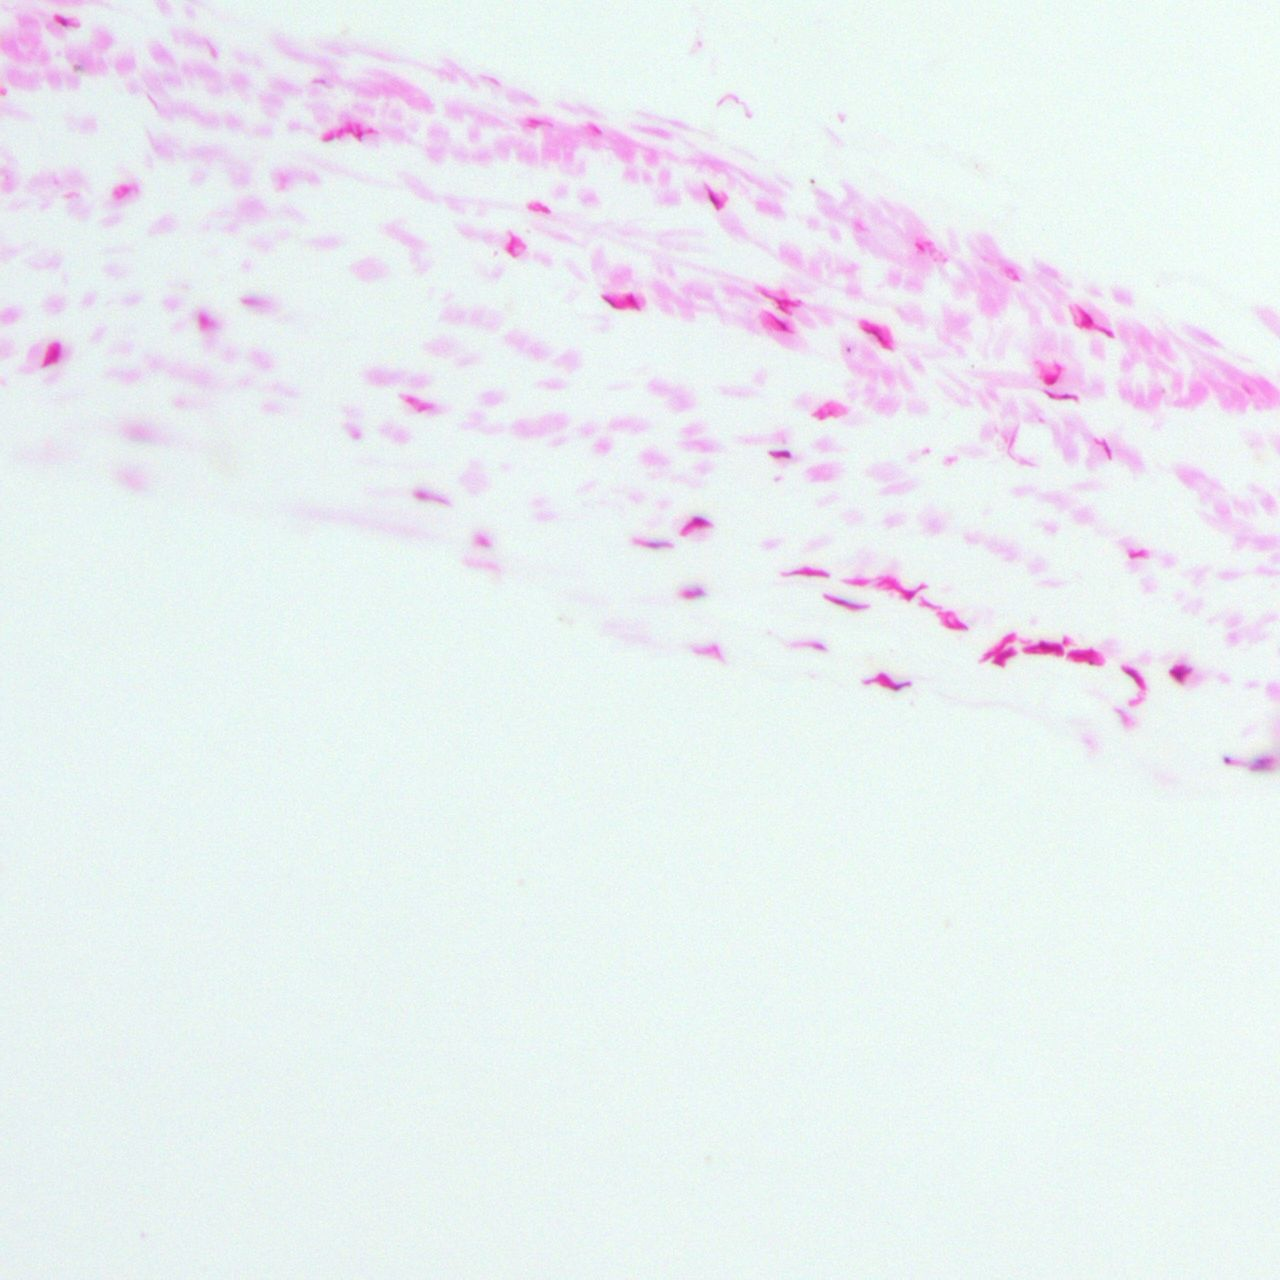dust: (72, 64, 84, 73), (490, 248, 499, 259), (1223, 755, 1228, 764), (524, 227, 530, 234), (809, 178, 815, 184)
nucleus-FG: (978, 629, 1016, 666), (862, 324, 894, 353), (762, 288, 792, 316), (898, 577, 930, 602), (863, 674, 911, 690), (821, 595, 869, 612), (678, 513, 708, 537), (993, 644, 1016, 667), (43, 343, 64, 369), (414, 490, 448, 505), (403, 394, 429, 414), (1122, 663, 1144, 686), (765, 313, 791, 332), (782, 567, 829, 577), (320, 128, 347, 143), (1076, 305, 1095, 326), (634, 539, 675, 549), (1071, 647, 1096, 661), (1099, 437, 1114, 462), (1043, 392, 1080, 401), (706, 188, 721, 210), (1169, 665, 1187, 682), (1039, 642, 1063, 654), (680, 588, 706, 599), (115, 185, 132, 200), (527, 202, 550, 213), (1095, 325, 1115, 338), (602, 294, 618, 309), (506, 234, 517, 256), (945, 620, 968, 629), (768, 450, 791, 458), (812, 409, 832, 418), (628, 295, 640, 311), (1046, 375, 1060, 387), (529, 120, 552, 127), (809, 642, 828, 651), (57, 16, 70, 28), (845, 578, 869, 584), (590, 123, 601, 135), (1128, 550, 1145, 557), (915, 243, 926, 253), (356, 125, 362, 139)
